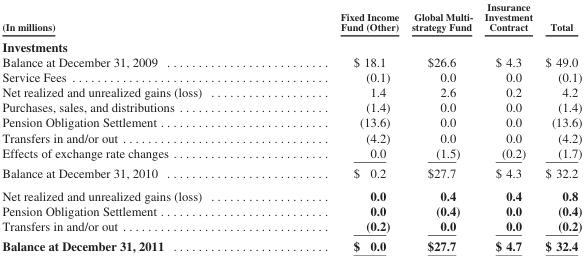table: (1, 0, 581, 252)
table column: (1, 0, 270, 252), (270, 0, 404, 252), (404, 0, 478, 252), (478, 0, 538, 252), (538, 0, 581, 252)
table column header: (1, 0, 581, 35)
table projected row header: (1, 35, 581, 53)
table row: (1, 0, 581, 35), (1, 162, 581, 183), (1, 183, 581, 202), (1, 35, 581, 53), (1, 144, 581, 162), (1, 217, 581, 235), (1, 235, 581, 252), (1, 53, 581, 69), (1, 69, 581, 84), (1, 84, 581, 99), (1, 99, 581, 114), (1, 114, 581, 129), (1, 129, 581, 144), (1, 202, 581, 217)
